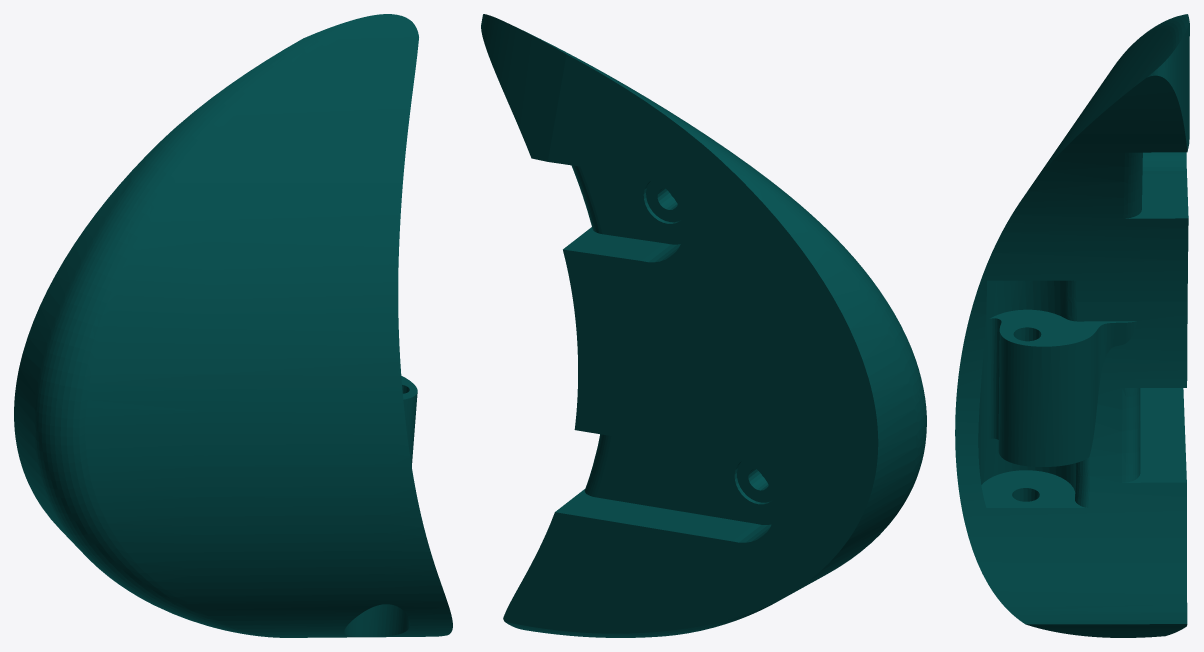
File: leg_right_toe_pitch_visuals.obj
The picture shows the model from 3 angles, left to right: view 1: azimuth 30°, elevation 25°; view 2: azimuth 150°, elevation 25°; view 3: azimuth 270°, elevation 25°; orthographic projection. The views are drawn at different scales.
Bounding box in the file's own units: 0.0509 × 0.0715 × 0.0253.
